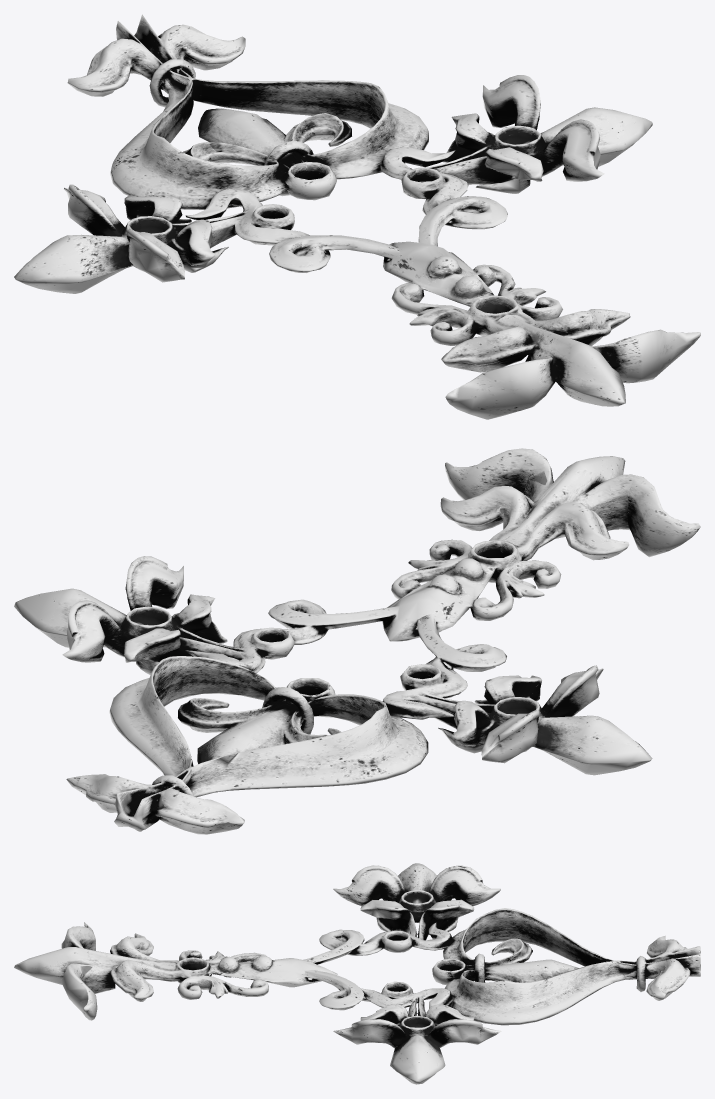
The model's file is gothic-pendant.glb.
3 renders of one model, top to bottom at view 1: azimuth 30°, elevation 25°; view 2: azimuth 150°, elevation 25°; view 3: azimuth 270°, elevation 25°, orthographic. The views are drawn at different scales.
Parts seen in each view (by area): view 1: PendantGothic; view 2: PendantGothic; view 3: PendantGothic.
Part boxes in pixels (x1,y1,x2,y2): PendantGothic: (14, 14, 700, 419); PendantGothic: (14, 448, 700, 834); PendantGothic: (14, 863, 700, 1084).
Bounding box in the file's own units: 0.2194 × 0.0242 × 0.295.
Materials: 1 (1 with a texture image).
